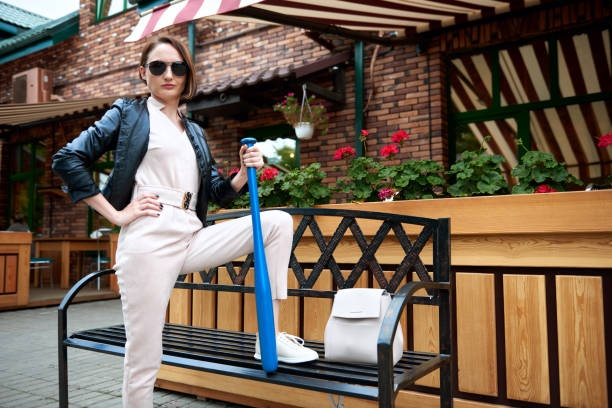bita: (242, 133, 281, 371)
